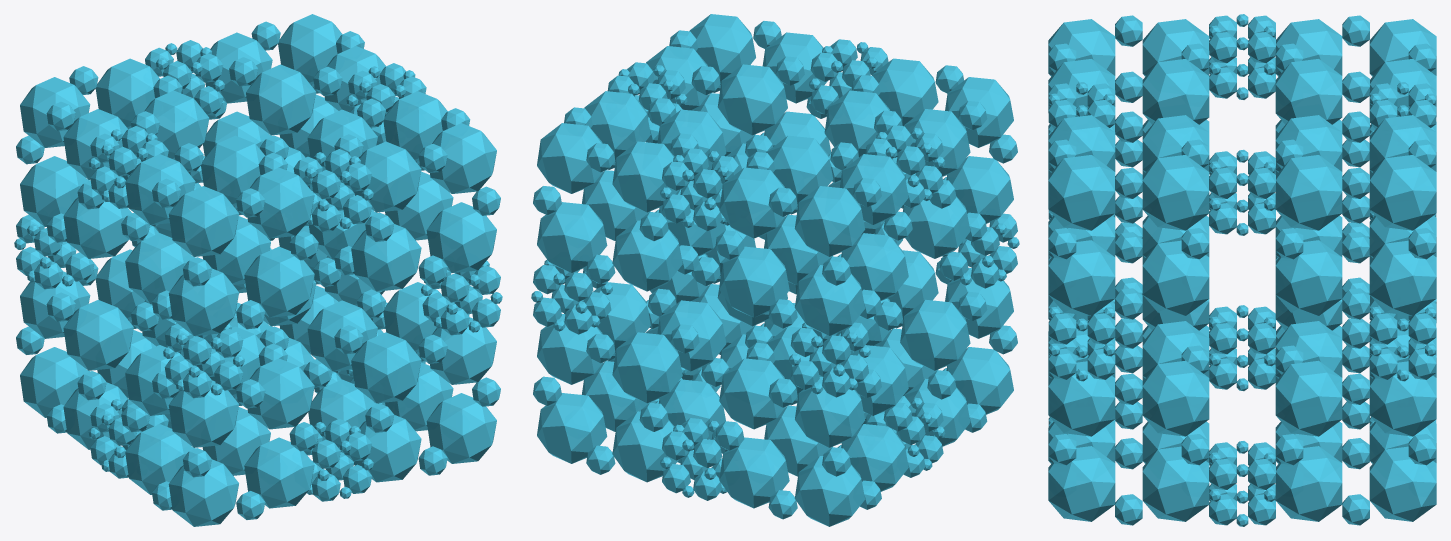
The model's file is fractalsnubcube3-2.glb.
3 renders of one model, left to right at view 1: azimuth 30°, elevation 25°; view 2: azimuth 150°, elevation 25°; view 3: azimuth 270°, elevation 25°, orthographic. The views are drawn at different scales.
Size of the model in its own units: 7.21 by 7.21 by 7.21.
